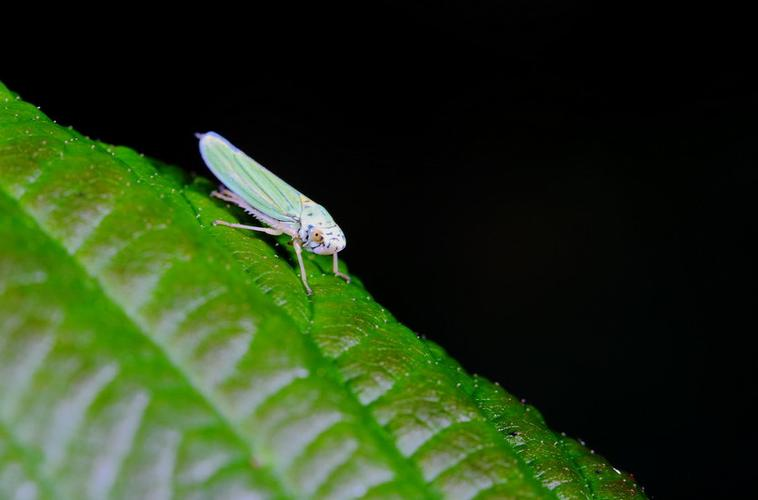Cicadellidae: (197, 131, 346, 286)
